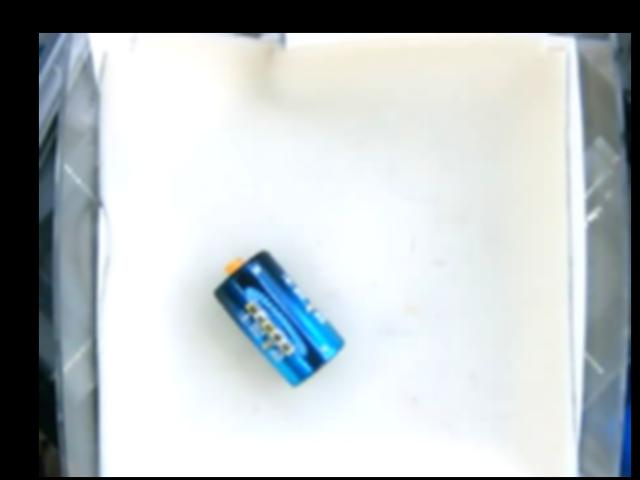Battery: (211, 246, 347, 389)
